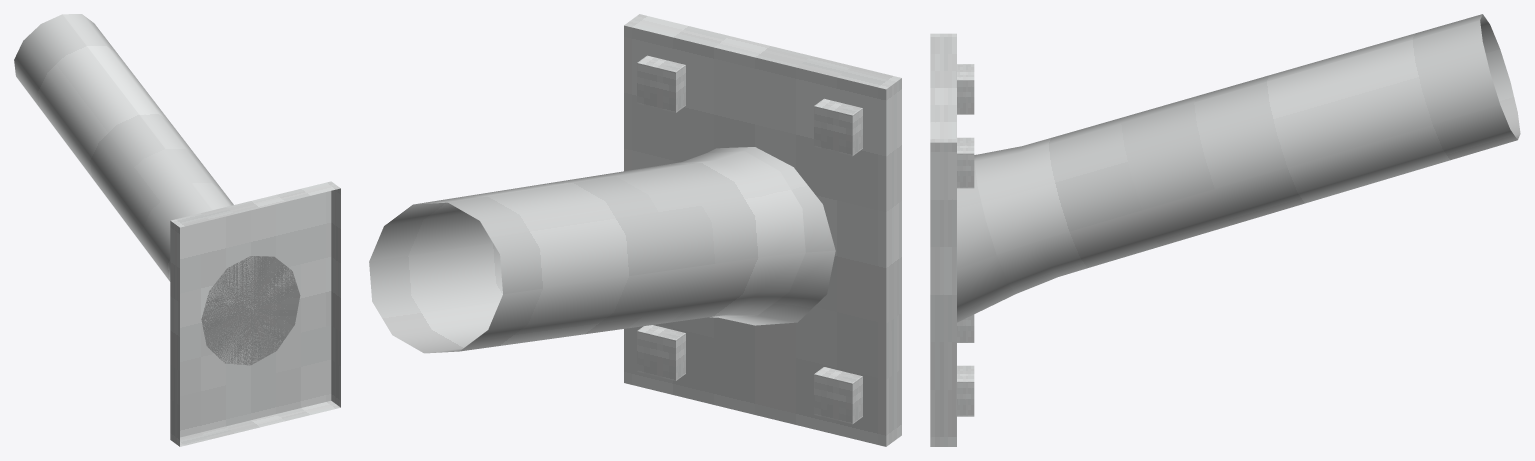
Rendered from luminairearm_caltrans12ftstraightdouble_c0_wall.obj.
3 views of the same model, side by side, from view 1: azimuth 30°, elevation 25°; view 2: azimuth 150°, elevation 25°; view 3: azimuth 270°, elevation 25° (orthographic). The views are drawn at different scales.
Parts seen in each view (by area): view 1: luminairearm_caltrans12ftstraightdouble_c0_wall; view 2: luminairearm_caltrans12ftstraightdouble_c0_wall; view 3: luminairearm_caltrans12ftstraightdouble_c0_wall.
Boxes of the visible parts, <box> form: luminairearm_caltrans12ftstraightdouble_c0_wall: <box>14,14,340,446</box>; luminairearm_caltrans12ftstraightdouble_c0_wall: <box>369,14,901,446</box>; luminairearm_caltrans12ftstraightdouble_c0_wall: <box>930,14,1520,446</box>.
Bounding box in the file's own units: 0.4222 × 0.6723 × 0.9661.
